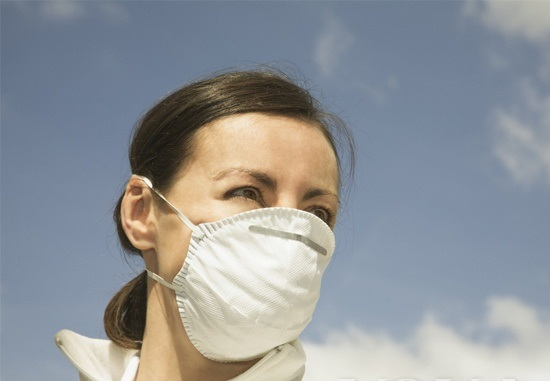face_mask: (170, 120, 337, 348)
